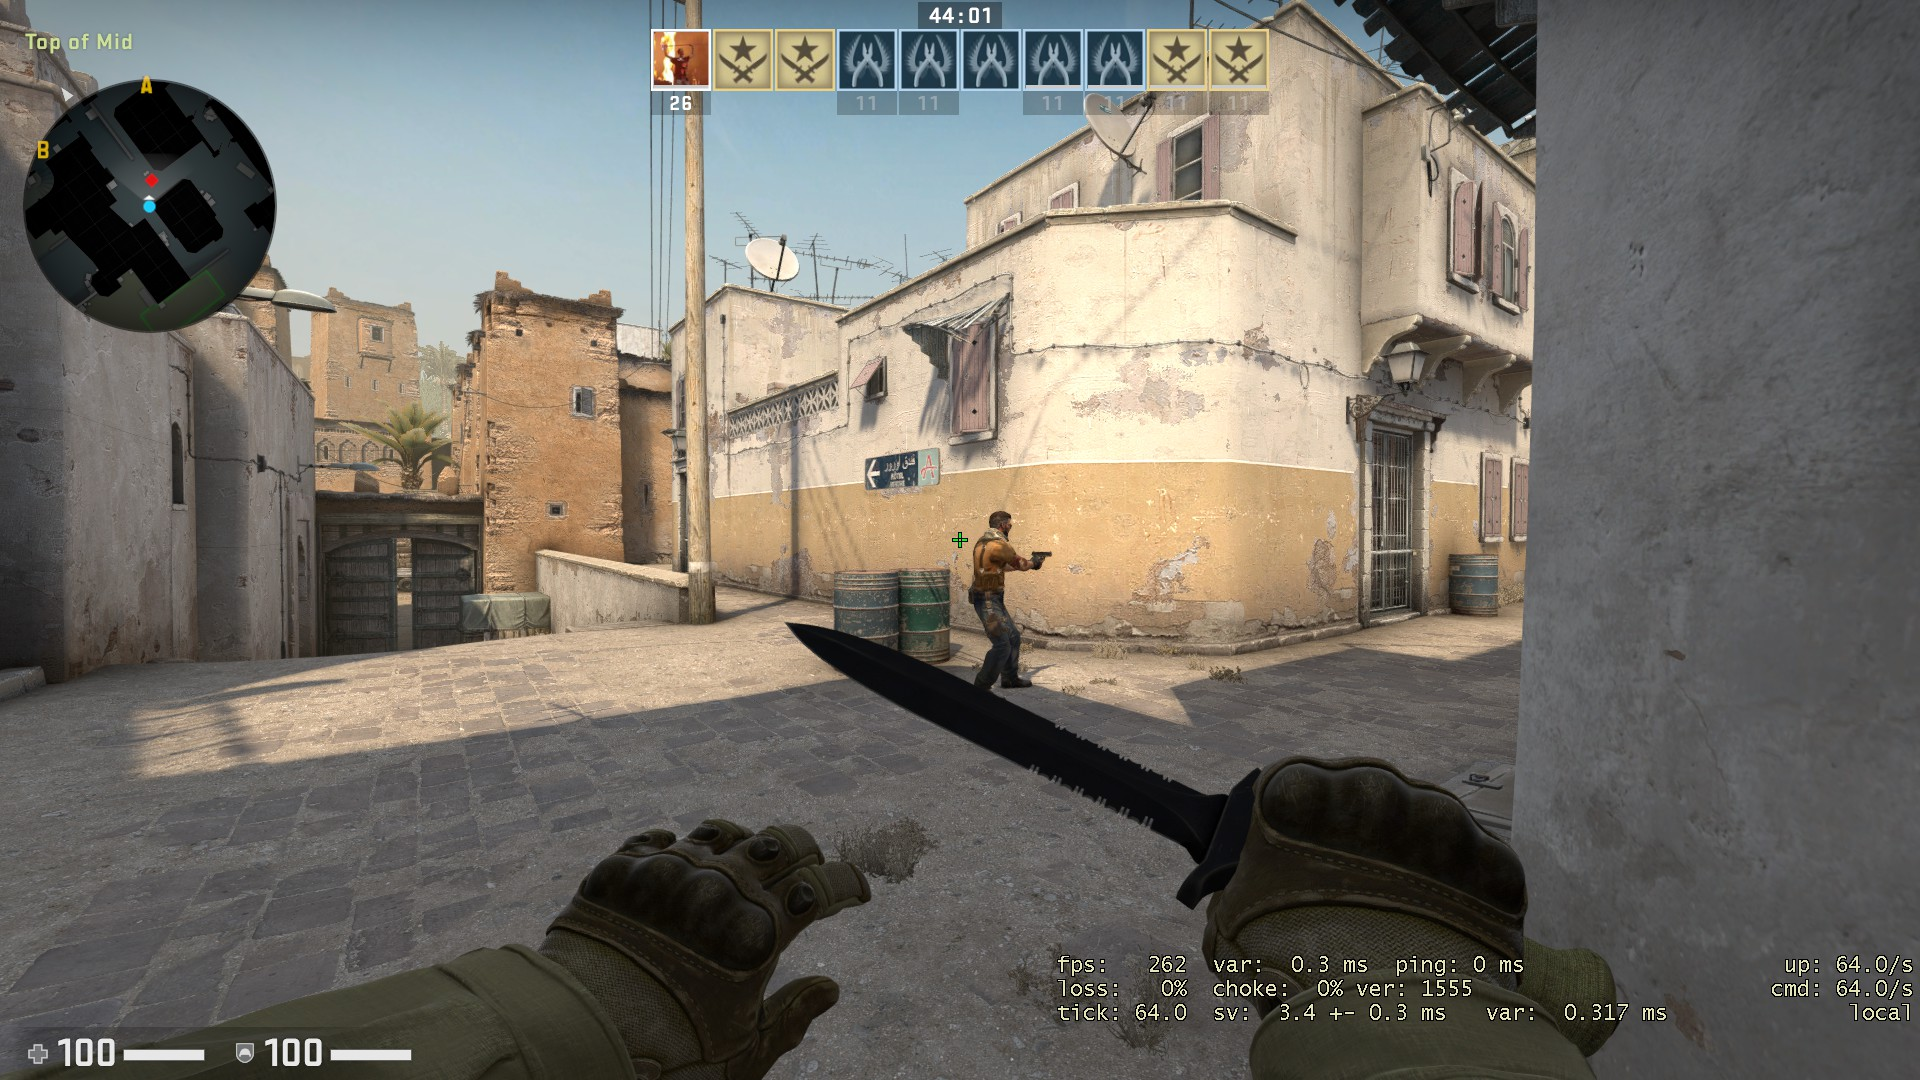player: (963, 505, 1055, 690)
